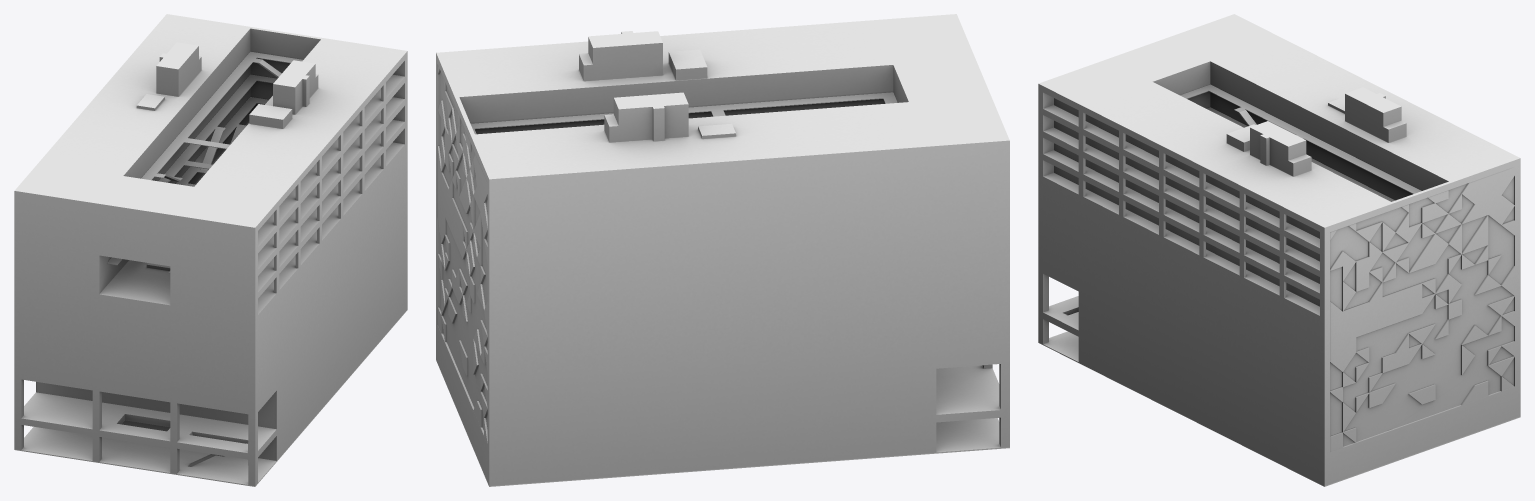
The model's file is StrijpS_Gebouw_02.glb.
The picture shows the model from 3 angles, left to right: view 1: azimuth 30°, elevation 25°; view 2: azimuth 150°, elevation 25°; view 3: azimuth 270°, elevation 25°; orthographic projection. The views are drawn at different scales.
Parts seen in each view (by area): view 1: StrijpS_Gebouw_02; view 2: StrijpS_Gebouw_02; view 3: StrijpS_Gebouw_02.
Boxes of the visible parts, x1,y1,x2,y2 form: StrijpS_Gebouw_02: (14, 14, 407, 486); StrijpS_Gebouw_02: (436, 14, 1009, 486); StrijpS_Gebouw_02: (1038, 14, 1520, 486).
Bounding box in the file's own units: 72.85 × 45.52 × 69.45.
Materials: 1 (1 with a texture image).
